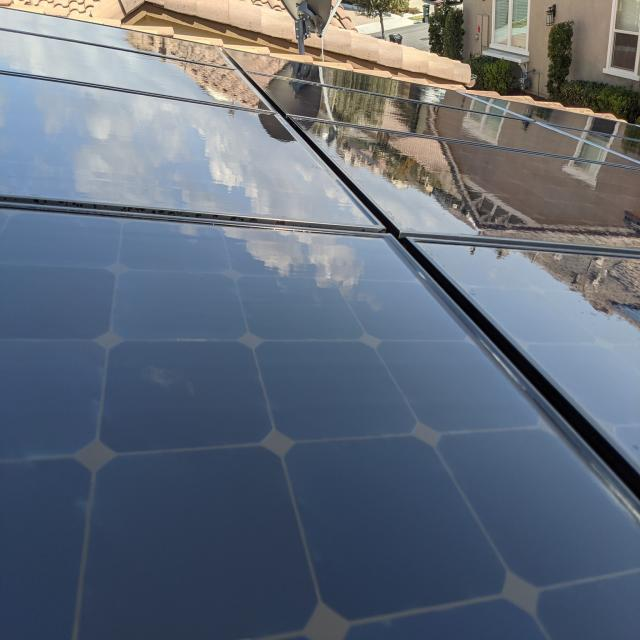clean-solar-panel: (1, 10, 640, 638)
